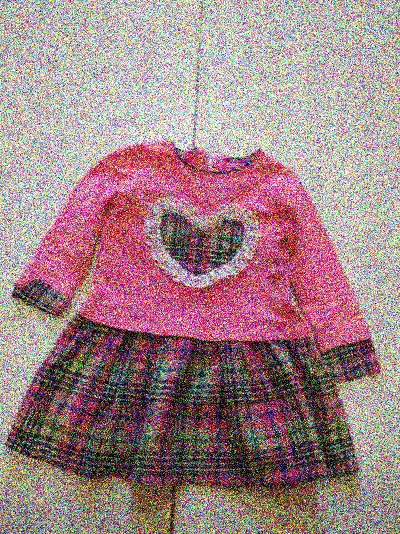Dress: (7, 124, 361, 502)
